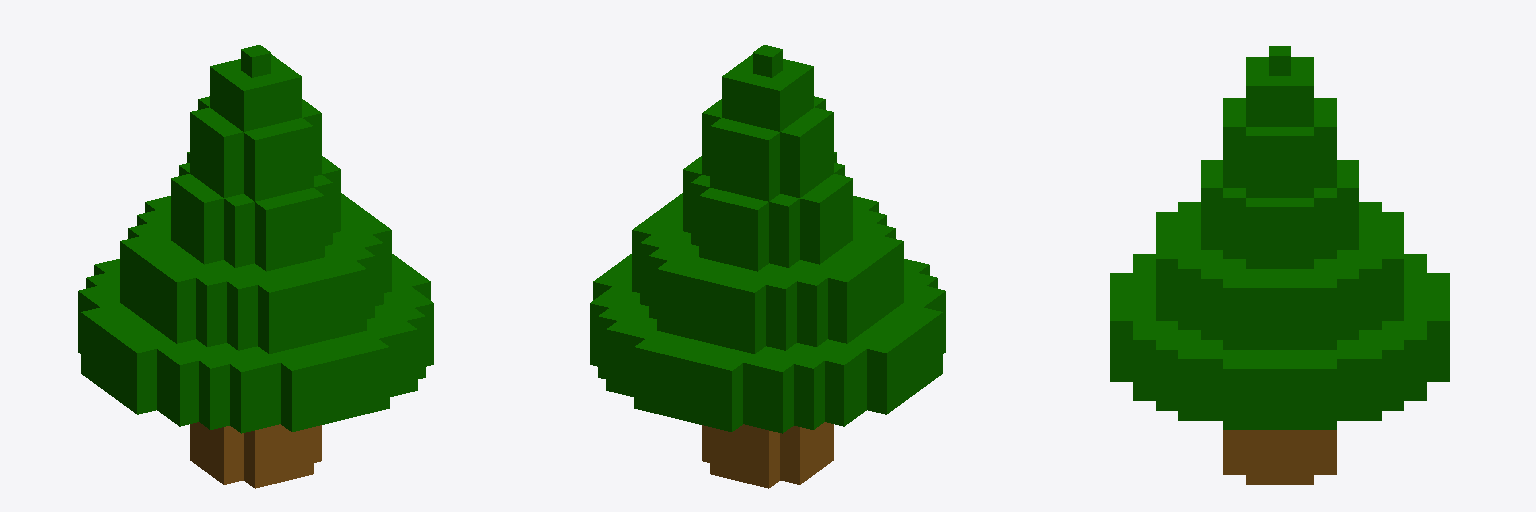
The picture shows the model from 3 angles: view 1: azimuth 30°, elevation 25°; view 2: azimuth 150°, elevation 25°; view 3: azimuth 270°, elevation 25°; orthographic projection.
Visible parts, largest first — view 1: moreTrees.001; view 2: moreTrees.001; view 3: moreTrees.001.
Boxes of the visible parts, x1=… form: moreTrees.001: x1=78, y1=45, x2=433, y2=488; moreTrees.001: x1=590, y1=45, x2=945, y2=488; moreTrees.001: x1=1110, y1=46, x2=1449, y2=484.
Size of the model in its own units: 1.5 by 2 by 1.5.
Materials: 1 (1 with a texture image).